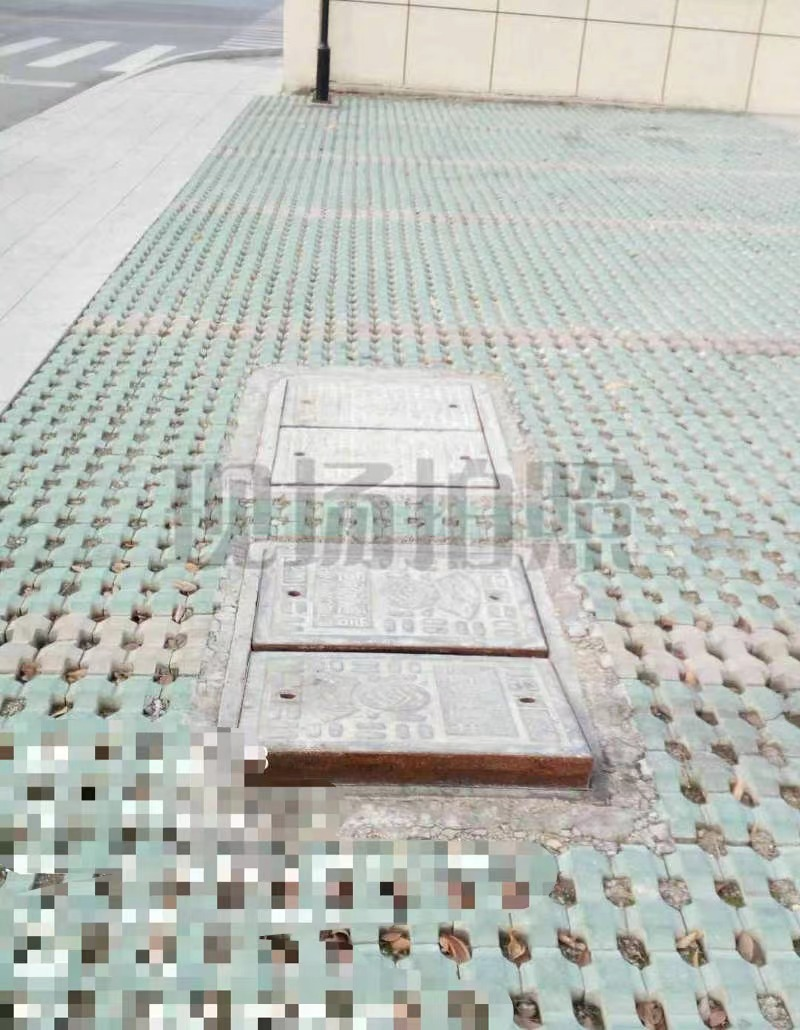well: (218, 549, 613, 801), (256, 370, 522, 492)
